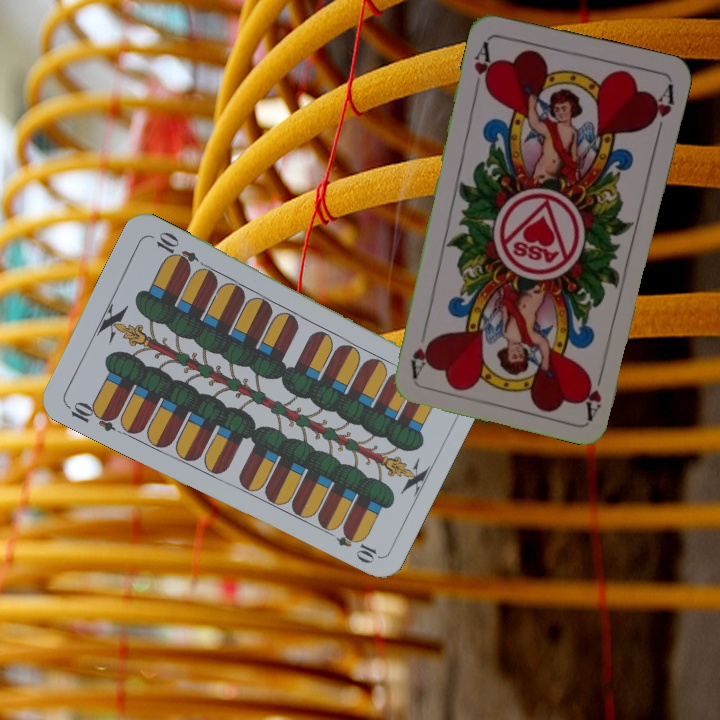E10: (62, 397, 120, 435)
HA: (578, 362, 607, 421), (470, 37, 497, 95)
